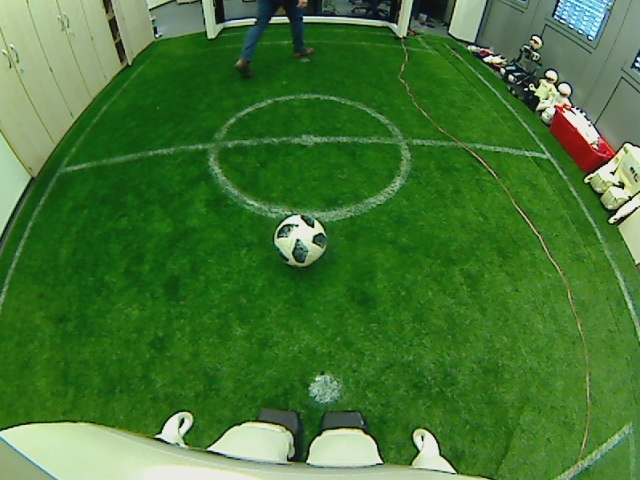ball: (272, 210, 328, 267)
